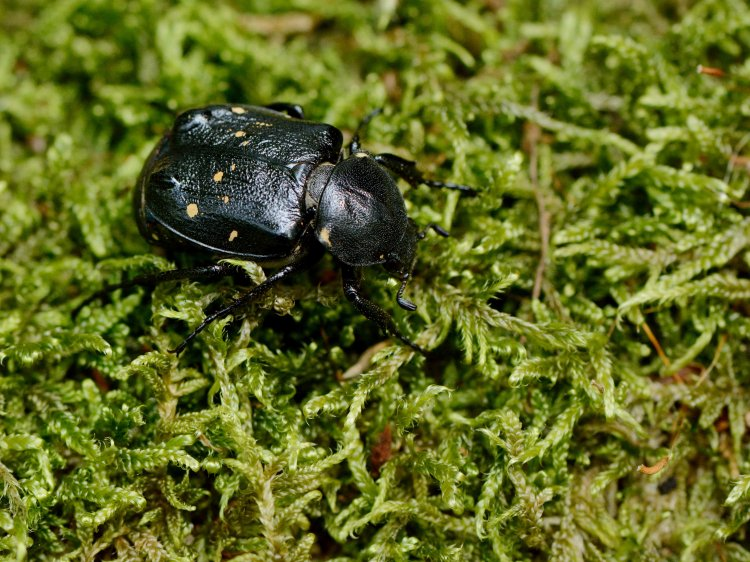Gnorimus_variabilis: (119, 80, 485, 359)
